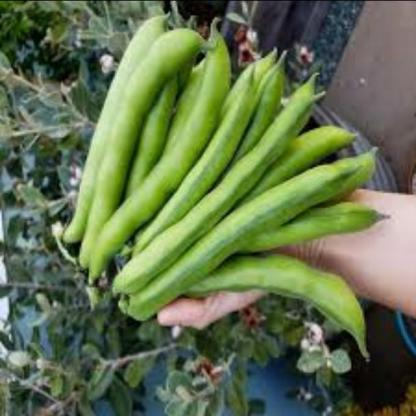beans: (43, 1, 384, 374)
